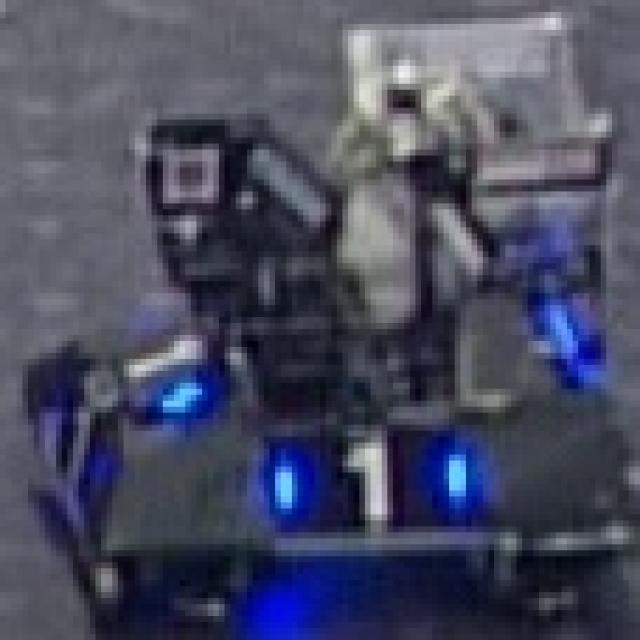B1: (258, 419, 483, 526), (112, 323, 214, 431)
